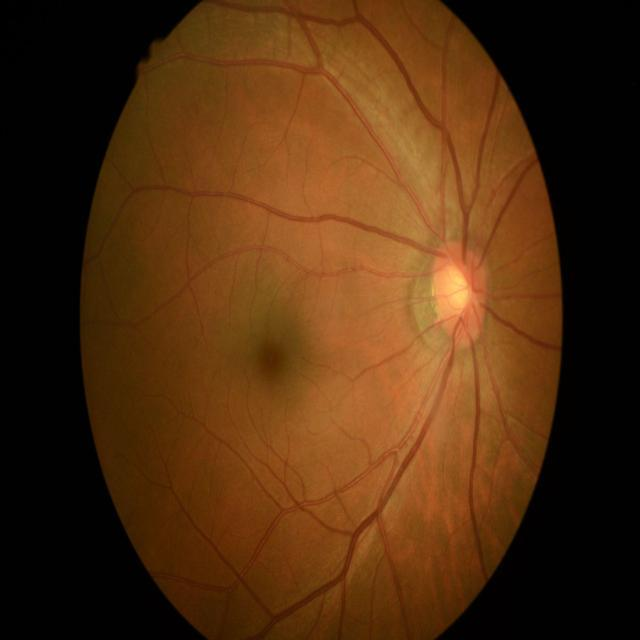cup: (446, 260, 474, 333)
disk: (431, 242, 488, 347)
